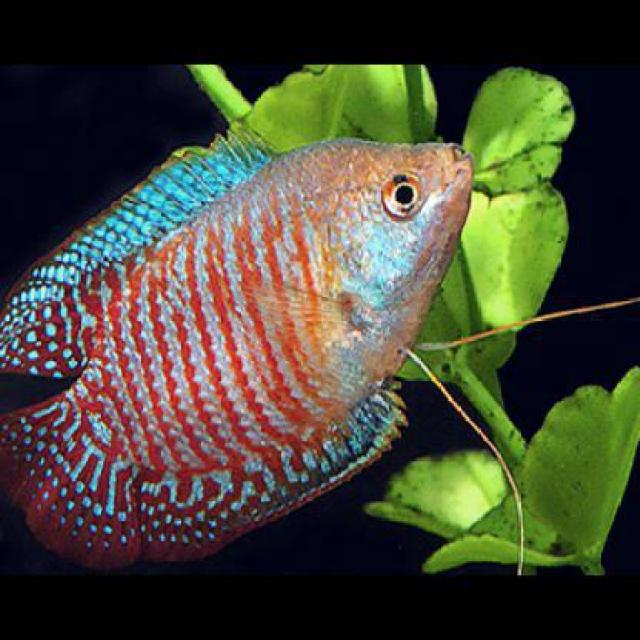Gourami: (0, 134, 480, 574)
